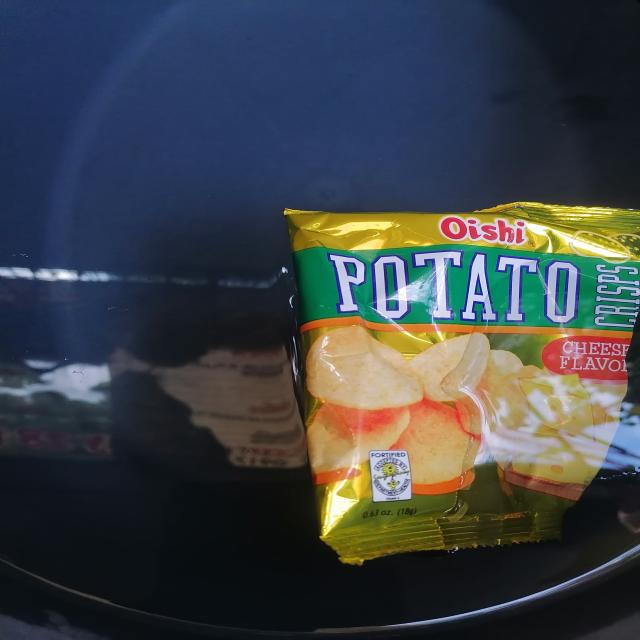Plastic Wrapper: (284, 202, 640, 565)
